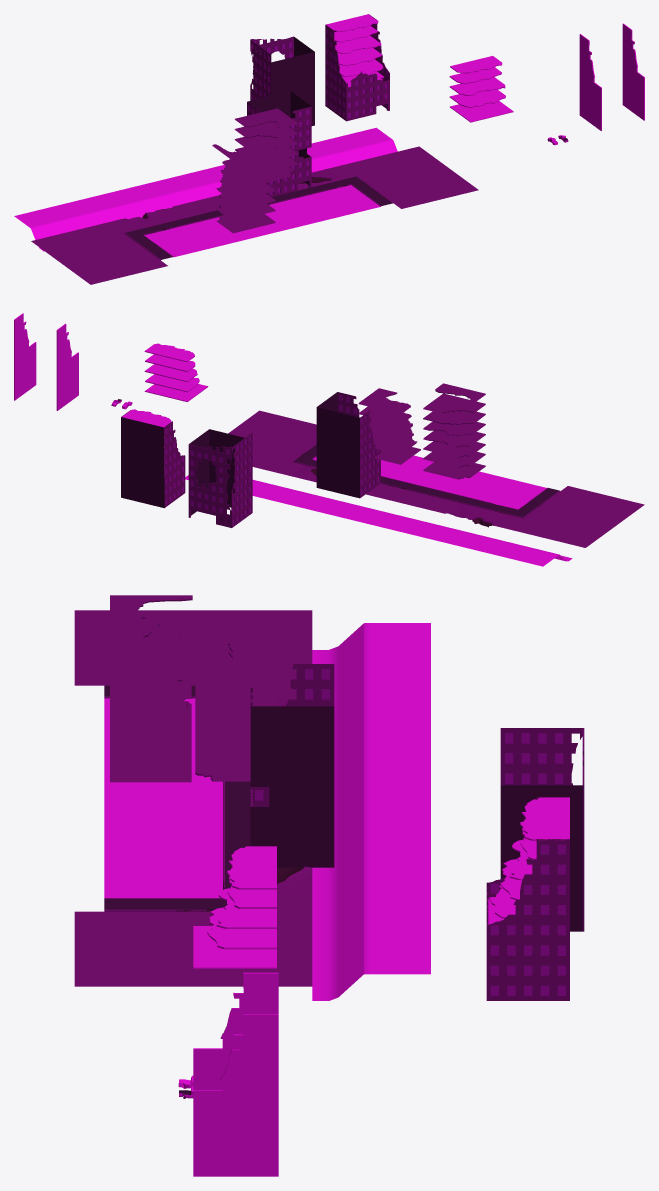
File: Env_Meshs.fbx
3 renders of one model, top to bottom at view 1: azimuth 30°, elevation 25°; view 2: azimuth 150°, elevation 25°; view 3: azimuth 270°, elevation 25°, orthographic. The views are drawn at different scales.
Parts seen in each view (by area): view 1: Env_Play_Ground_01, Env_Back_Ground_01, Env_Play_Ground_03, Env_Play_BuildingFloors_02, Env_Play_Building_02, Env_Play_Building_03, Col_Play_Building_03, Col_Play_BuildingFloors_03, Env_Play_Building_01, Env_Play_BuildingFloors_01, Env_Play_BuildingFloors_03, Env_Play_Ground_02; view 2: Env_Play_Ground_01, Env_Play_Building_01, Env_Play_Building_02, Env_Back_Ground_01, Env_Play_Building_03, Env_Play_BuildingFloors_02, Env_Play_Ground_03, Col_Play_Building_03, Env_Play_BuildingFloors_01, Col_Play_BuildingFloors_03, Env_Play_Ground_02, Env_Play_BuildingFloors_03; view 3: Env_Back_Ground_01, Env_Play_Ground_01, Env_Play_Building_01, Env_Play_Ground_03, Col_Play_Building_03, Env_Play_BuildingFloors_02, Env_Play_Building_03, Env_Play_Building_02, Env_Play_BuildingFloors_01, Col_Play_BuildingFloors_03, Env_Play_Ground_02, Env_Play_BuildingFloors_03.
Boxes of the visible parts, left/top/right/bottom form: Env_Play_Ground_01: left=31, top=146, right=478, bottom=284; Env_Back_Ground_01: left=14, top=127, right=397, bottom=251; Env_Play_Ground_03: left=144, top=185, right=380, bottom=257; Env_Play_BuildingFloors_02: left=212, top=143, right=275, bottom=233; Env_Play_Building_02: left=250, top=36, right=314, bottom=125; Env_Play_Building_03: left=325, top=14, right=389, bottom=121; Col_Play_Building_03: left=579, top=23, right=644, bottom=130; Col_Play_BuildingFloors_03: left=449, top=56, right=513, bottom=122; Env_Play_Building_01: left=247, top=91, right=311, bottom=196; Env_Play_BuildingFloors_01: left=234, top=108, right=297, bottom=180; Env_Play_BuildingFloors_03: left=326, top=14, right=384, bottom=87; Env_Play_Ground_02: left=124, top=176, right=393, bottom=260; Env_Play_Ground_01: left=228, top=410, right=644, bottom=547; Env_Play_Building_01: left=316, top=392, right=380, bottom=498; Env_Play_Building_02: left=188, top=429, right=252, bottom=527; Env_Back_Ground_01: left=185, top=475, right=572, bottom=566; Env_Play_Building_03: left=121, top=411, right=185, bottom=508; Env_Play_BuildingFloors_02: left=423, top=383, right=485, bottom=479; Env_Play_Ground_03: left=313, top=455, right=546, bottom=509; Col_Play_Building_03: left=14, top=313, right=78, bottom=410; Env_Play_BuildingFloors_01: left=358, top=388, right=420, bottom=464; Col_Play_BuildingFloors_03: left=144, top=343, right=208, bottom=401; Env_Play_Ground_02: left=292, top=443, right=559, bottom=518; Env_Play_BuildingFloors_03: left=122, top=409, right=171, bottom=467; Env_Back_Ground_01: left=312, top=623, right=430, bottom=1000; Env_Play_Ground_01: left=74, top=610, right=312, bottom=986; Env_Play_Building_01: left=250, top=664, right=334, bottom=867; Env_Play_Ground_03: left=104, top=698, right=222, bottom=897; Col_Play_Building_03: left=193, top=972, right=278, bottom=1176; Env_Play_BuildingFloors_02: left=110, top=595, right=192, bottom=782; Env_Play_Building_03: left=486, top=797, right=569, bottom=1000; Env_Play_Building_02: left=500, top=728, right=584, bottom=931; Env_Play_BuildingFloors_01: left=194, top=637, right=276, bottom=781; Col_Play_BuildingFloors_03: left=193, top=846, right=276, bottom=968; Env_Play_Ground_02: left=104, top=684, right=250, bottom=911; Env_Play_BuildingFloors_03: left=488, top=797, right=569, bottom=924.
Size of the model in its own units: 90.25 by 14.01 by 34.33.
